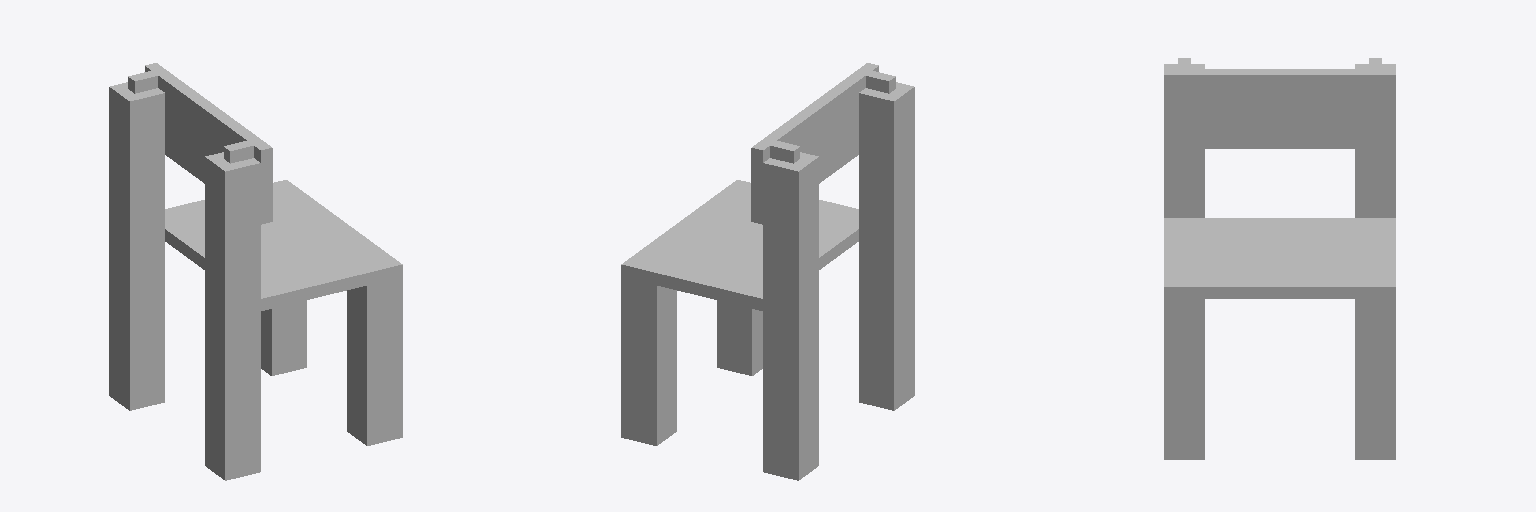
Rendered from Chair.obj.
3 views of the same model, side by side, from view 1: azimuth 30°, elevation 25°; view 2: azimuth 150°, elevation 25°; view 3: azimuth 270°, elevation 25° (orthographic).
Visible parts, largest first — view 1: object 1; view 2: object 1; view 3: object 1.
Part boxes in pixels (x1,y1,x2,y2): object 1: (109, 63, 402, 480); object 1: (621, 63, 914, 480); object 1: (1164, 58, 1395, 459).
Size of the model in its own units: 1.5 by 2.6 by 1.7.